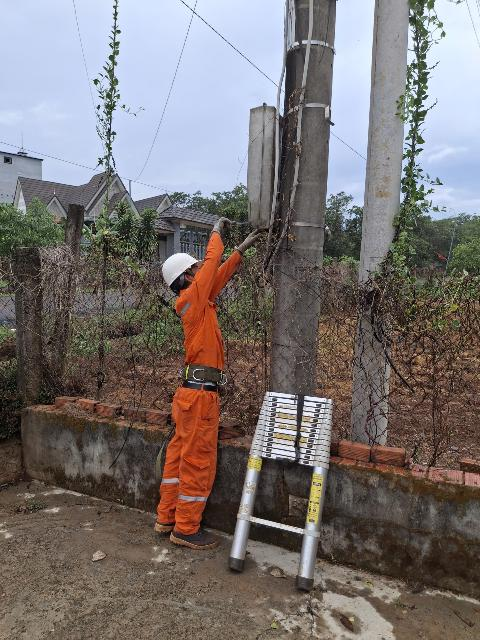gloves: (232, 229, 269, 253), (208, 214, 242, 236)
harness: (170, 354, 241, 395)
helmet: (156, 248, 206, 288)
shoes: (172, 513, 220, 556), (147, 511, 175, 535)
